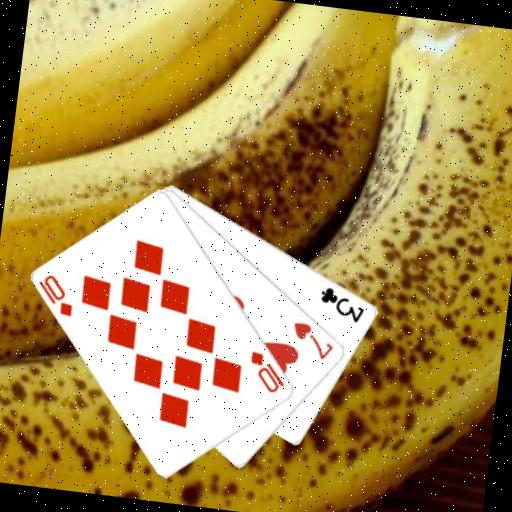10D: (32, 270, 79, 319), (244, 347, 290, 396)
3C: (315, 283, 370, 326)
7H: (286, 318, 338, 363)
